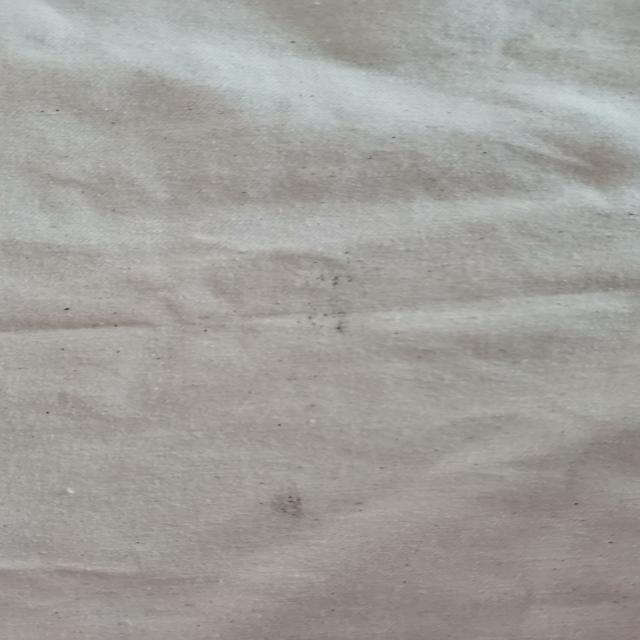taaaches: (254, 265, 378, 345), (240, 478, 334, 536)
